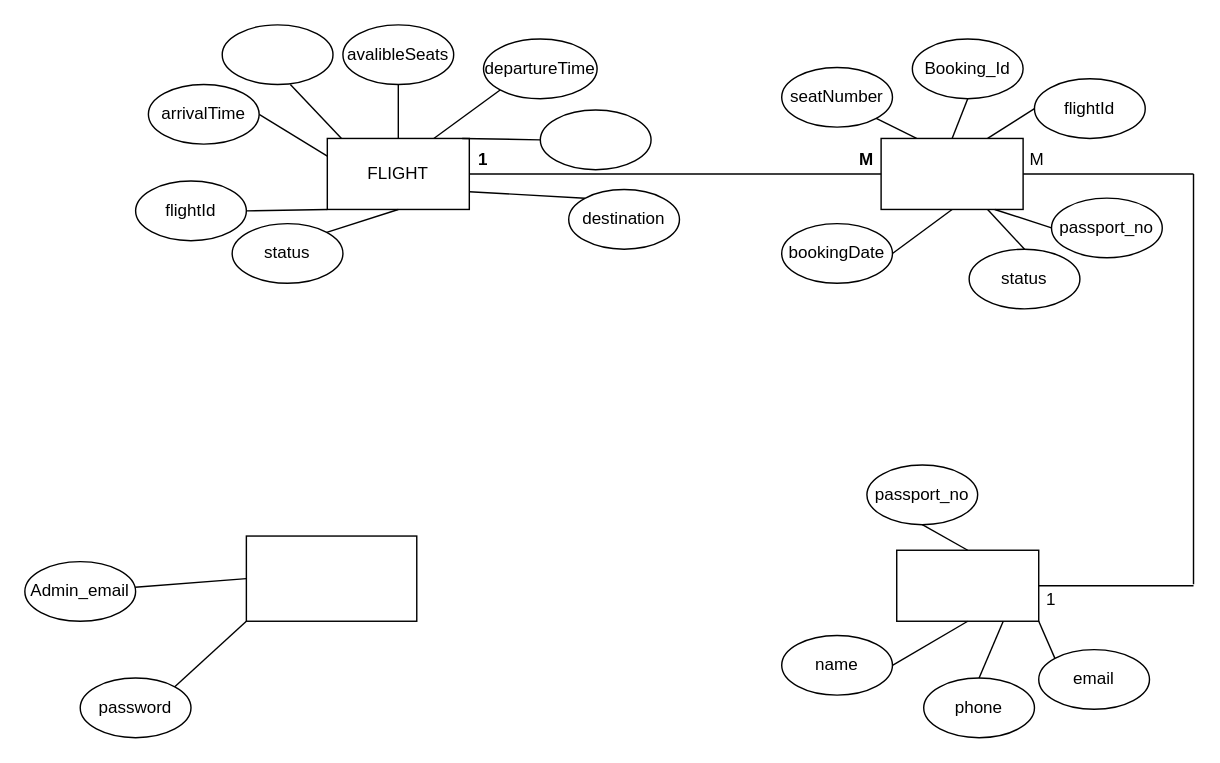
Some shapes in this 1220 by 763 pixel diagram are drawn without their labels. The centre of each missing label's shape, as x and y in pixels:
ADMIN: (x=331, y=578)
BOOKINGS: (x=951, y=173)
PASSENGER: (x=967, y=585)
source: (x=595, y=139)
totalSeats: (x=277, y=53)
